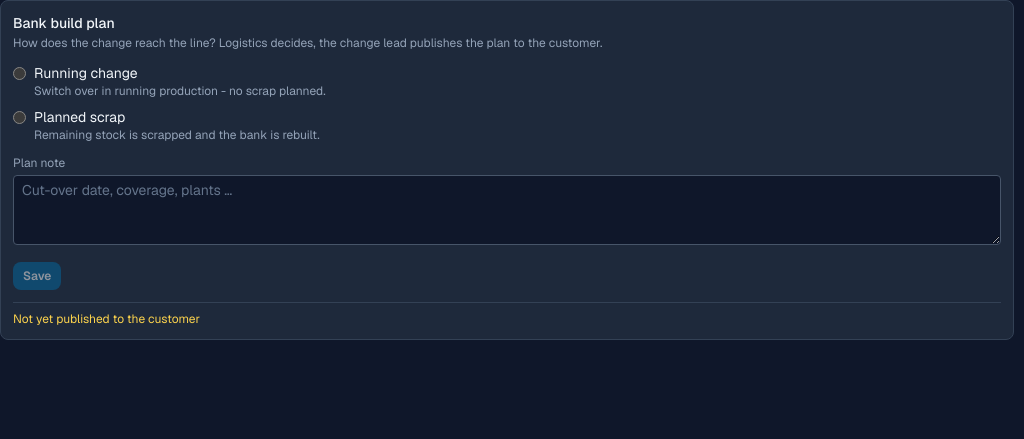
Test case: BankBuildCard › asks for the scrap price only for planned scrap, and will not save without it
Later steps or results of the test are not shown.
// Running change: no price anywhere.
Click the radio button with test id "bank-build-mode-running_change" at {"x": 20, "y": 74}, box [13,67,26,80]
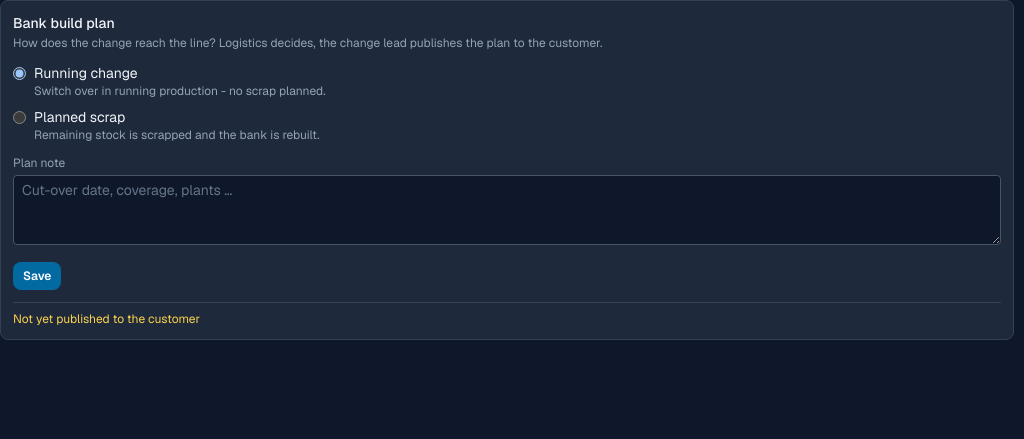
Click the radio button with test id "bank-build-mode-planned_scrap" at {"x": 20, "y": 118}, box [13,111,26,124]
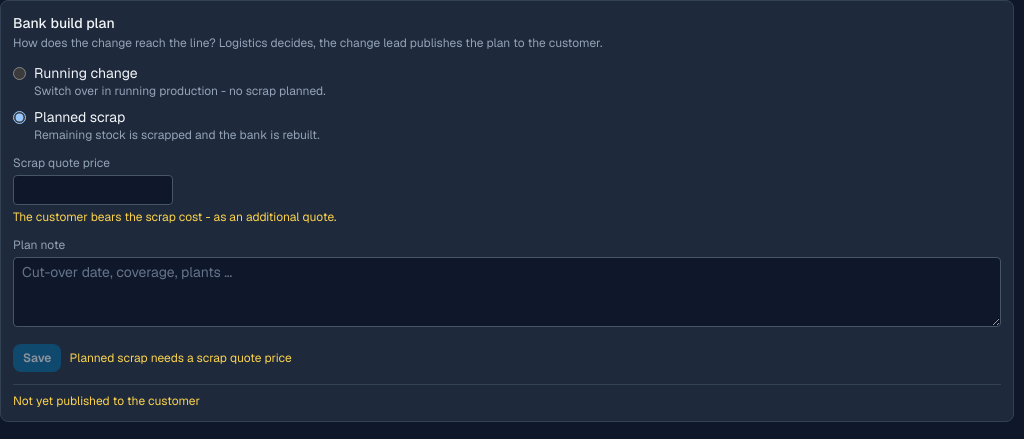
Check: the number field with test id "bank-build-scrap-price" is shown
Check: the text with test id "bank-build-scrap-hint" reads "The customer bears the scrap cost - as an additional quote.", box [13,209,336,225]
Check: the button with test id "bank-build-save" is disabled, box [13,344,62,372]
Type "4200" into the number field with test id "bank-build-scrap-price" at {"x": 93, "y": 190}, box [13,175,173,205]
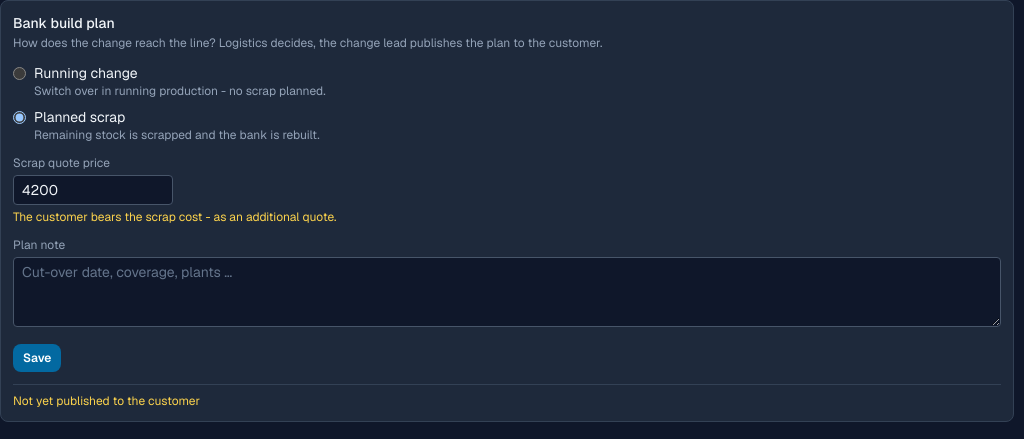
Check: the button with test id "bank-build-save" is enabled, box [13,344,62,372]
